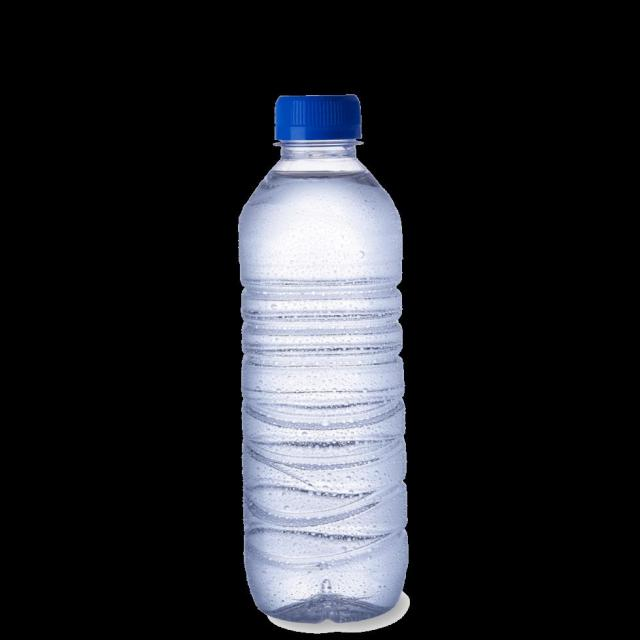bottle: (214, 78, 436, 636)
